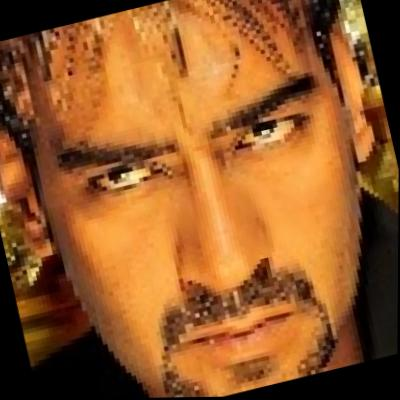angry: (18, 0, 394, 400)
